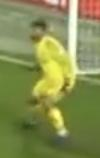goalkeeper: (15, 5, 91, 143)
